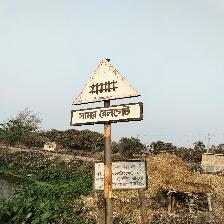Rail-crossing: (71, 58, 143, 126)
